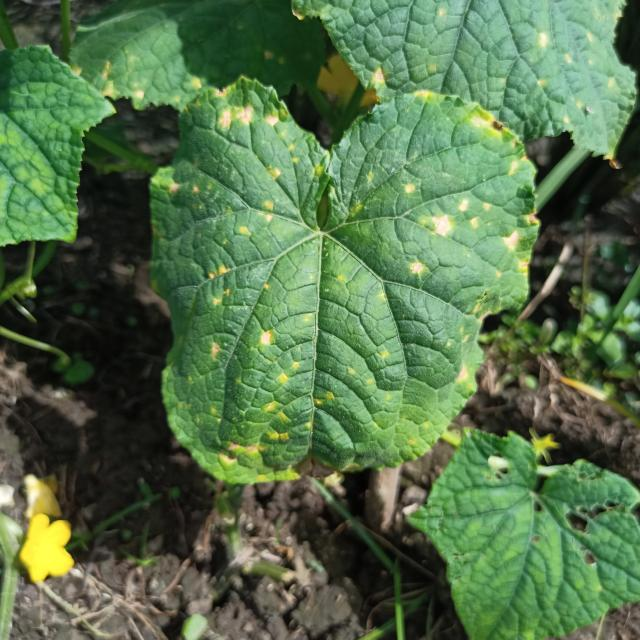disease_cucumber: (161, 84, 530, 472), (523, 28, 602, 128)
